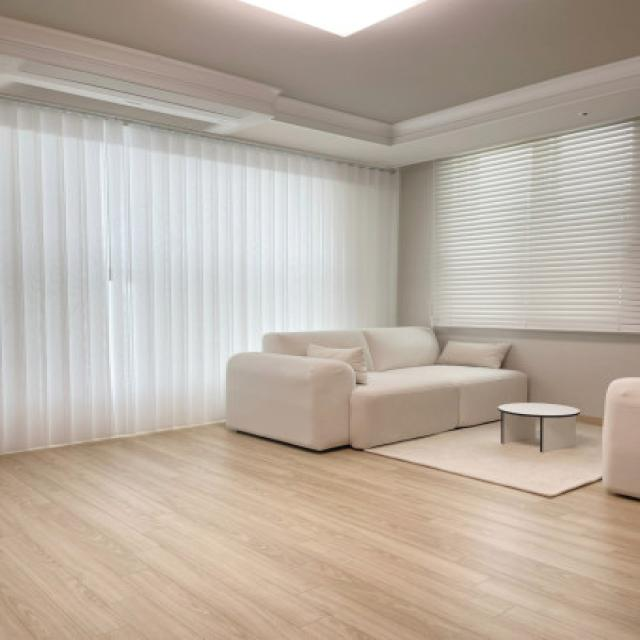Sofa: (221, 318, 531, 452)
Table: (495, 389, 577, 450)
window: (1, 105, 409, 322)
